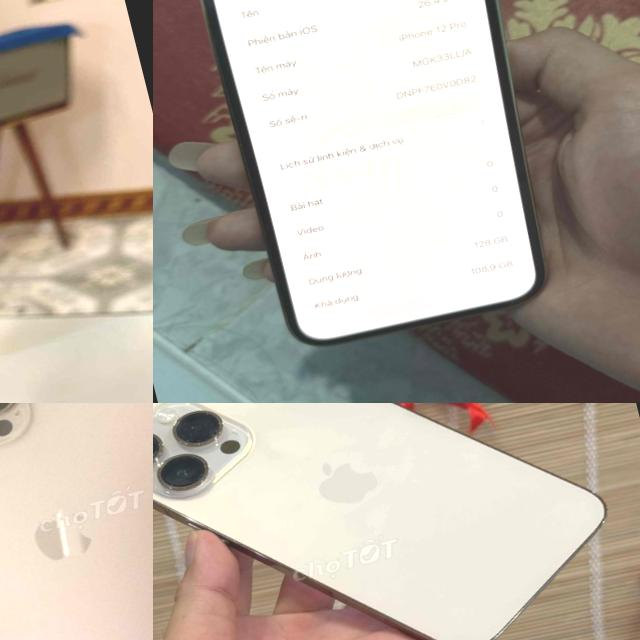gen_12_13: (185, 0, 579, 383), (0, 12, 99, 403), (0, 403, 153, 640)
gen_14: (153, 403, 637, 640)
